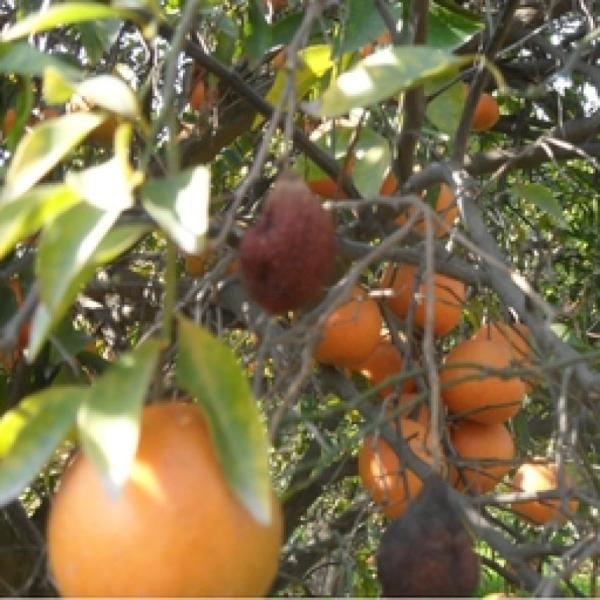Canker: (233, 160, 345, 316), (364, 500, 487, 597)
Sana: (46, 394, 284, 599), (436, 341, 526, 426), (389, 254, 473, 340), (361, 417, 441, 506), (307, 286, 383, 368), (442, 413, 516, 493), (512, 453, 582, 535), (470, 312, 548, 381), (410, 175, 466, 246), (366, 343, 432, 398), (445, 87, 500, 136), (384, 392, 442, 435)
